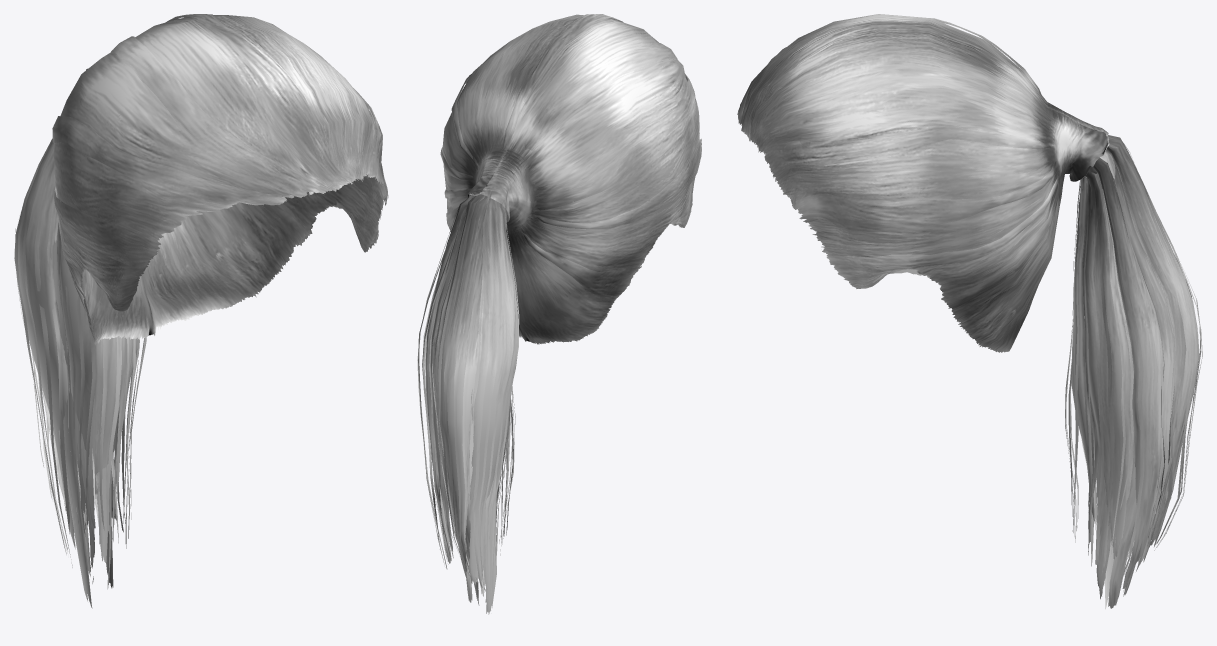
File: ponytail.glb
The picture shows the model from 3 angles, left to right: view 1: azimuth 30°, elevation 25°; view 2: azimuth 150°, elevation 25°; view 3: azimuth 270°, elevation 25°; orthographic projection. The views are drawn at different scales.
Parts seen in each view (by area): view 1: Hair; view 2: Hair; view 3: Hair.
Boxes of the visible parts, x1=… form: Hair: x1=14, y1=14, x2=388, y2=608; Hair: x1=417, y1=14, x2=701, y2=614; Hair: x1=737, y1=14, x2=1202, y2=609.
Bounding box in the file's own units: 0.1615 × 0.3869 × 0.268.
1 material, 1 textured.
